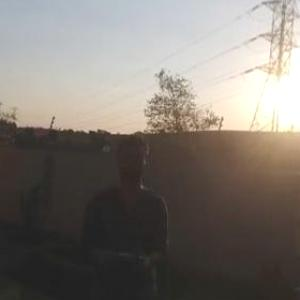follow: (84, 130, 173, 299)
